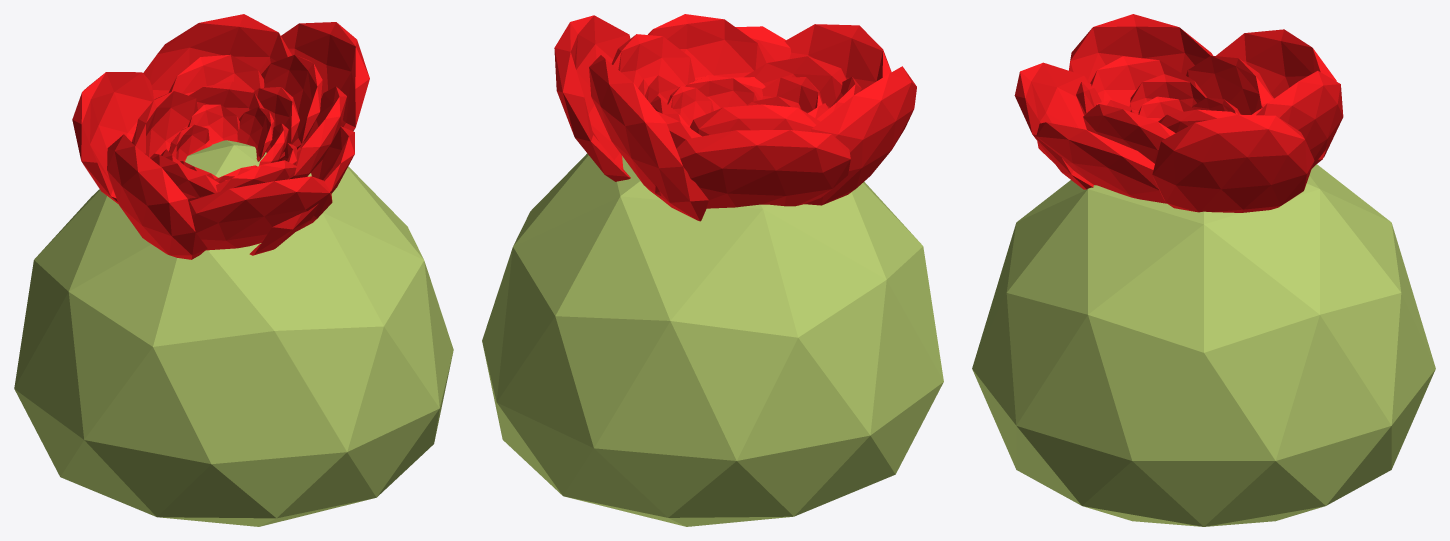
Rendered from Cactus_V09.fbx.
3 views of the same model, side by side, from view 1: azimuth 30°, elevation 25°; view 2: azimuth 150°, elevation 25°; view 3: azimuth 270°, elevation 25° (orthographic). The views are drawn at different scales.
Parts seen in each view (by area): view 1: Cactus_V09; view 2: Cactus_V09; view 3: Cactus_V09.
Boxes of the visible parts, x1,y1,x2,y2 form: Cactus_V09: [14, 14, 453, 526]; Cactus_V09: [482, 14, 943, 526]; Cactus_V09: [972, 14, 1435, 526].
Bounding box in the file's own units: 62.98 × 70.41 × 66.83.
